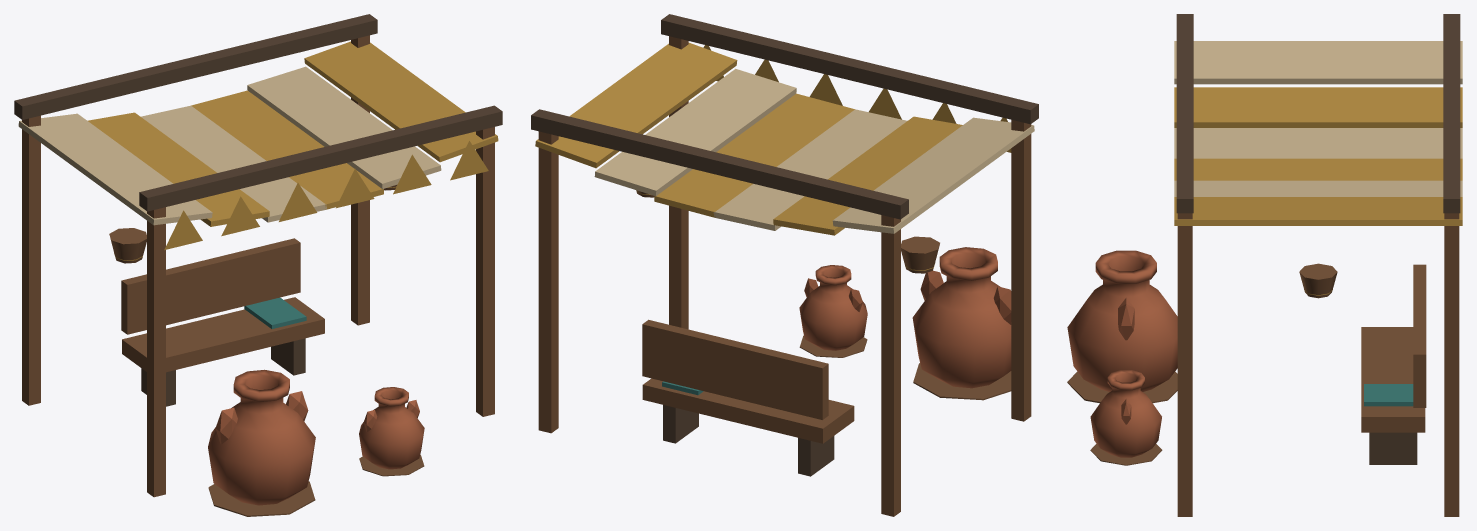
File: rest-canopy.glb
3 renders of one model, left to right at view 1: azimuth 30°, elevation 25°; view 2: azimuth 150°, elevation 25°; view 3: azimuth 270°, elevation 25°, orthographic. The views are drawn at different scales.
Parts seen in each view (by area): view 1: rest-canopy-surface, courtyard-vessel-surface (×2), wind-cloth-42-surface, wind-cloth-40-surface, wind-cloth-32-surface, wind-cloth-38-surface, wind-cloth-36-surface, wind-cloth-34-surface, wind-cloth-41-surface, wind-cloth-37-surface, wind-cloth-33-surface, wind-cloth-35-surface (+2 smaller); view 2: rest-canopy-surface, courtyard-vessel-surface (×2), wind-cloth-42-surface, wind-cloth-40-surface, wind-cloth-32-surface, wind-cloth-38-surface, wind-cloth-36-surface, wind-cloth-34-surface; view 3: rest-canopy-surface, courtyard-vessel-surface (×2), wind-cloth-32-surface, wind-cloth-34-surface, wind-cloth-36-surface, wind-cloth-42-surface, wind-cloth-38-surface, wind-cloth-40-surface.
Boxes of the visible parts, left/top/right/bottom form: rest-canopy-surface: left=14, top=14, right=502, bottom=497; courtyard-vessel-surface (×2): left=208, top=369, right=424, bottom=516; wind-cloth-42-surface: left=304, top=41, right=498, bottom=162; wind-cloth-40-surface: left=247, top=66, right=441, bottom=189; wind-cloth-32-surface: left=18, top=113, right=212, bottom=225; wind-cloth-38-surface: left=191, top=90, right=383, bottom=209; wind-cloth-36-surface: left=141, top=105, right=326, bottom=222; wind-cloth-34-surface: left=87, top=112, right=269, bottom=226; wind-cloth-41-surface: left=393, top=154, right=431, bottom=194; wind-cloth-37-surface: left=279, top=182, right=317, bottom=221; wind-cloth-33-surface: left=164, top=210, right=202, bottom=250; wind-cloth-35-surface: left=221, top=196, right=259, bottom=236; rest-canopy-surface: left=531, top=14, right=1038, bottom=516; courtyard-vessel-surface (×2): left=799, top=247, right=1011, bottom=400; wind-cloth-42-surface: left=535, top=42, right=737, bottom=168; wind-cloth-40-surface: left=594, top=68, right=796, bottom=196; wind-cloth-32-surface: left=832, top=117, right=1034, bottom=233; wind-cloth-38-surface: left=654, top=93, right=854, bottom=217; wind-cloth-36-surface: left=713, top=109, right=907, bottom=230; wind-cloth-34-surface: left=773, top=116, right=962, bottom=235; rest-canopy-surface: left=1176, top=14, right=1460, bottom=516; courtyard-vessel-surface (×2): left=1067, top=250, right=1177, bottom=465; wind-cloth-32-surface: left=1174, top=41, right=1462, bottom=84; wind-cloth-34-surface: left=1174, top=87, right=1462, bottom=127; wind-cloth-36-surface: left=1174, top=128, right=1462, bottom=158; wind-cloth-42-surface: left=1174, top=197, right=1462, bottom=225; wind-cloth-38-surface: left=1174, top=158, right=1462, bottom=180; wind-cloth-40-surface: left=1174, top=180, right=1462, bottom=196.
Bounding box in the file's own units: 4.1 × 3.33 × 3.7.
